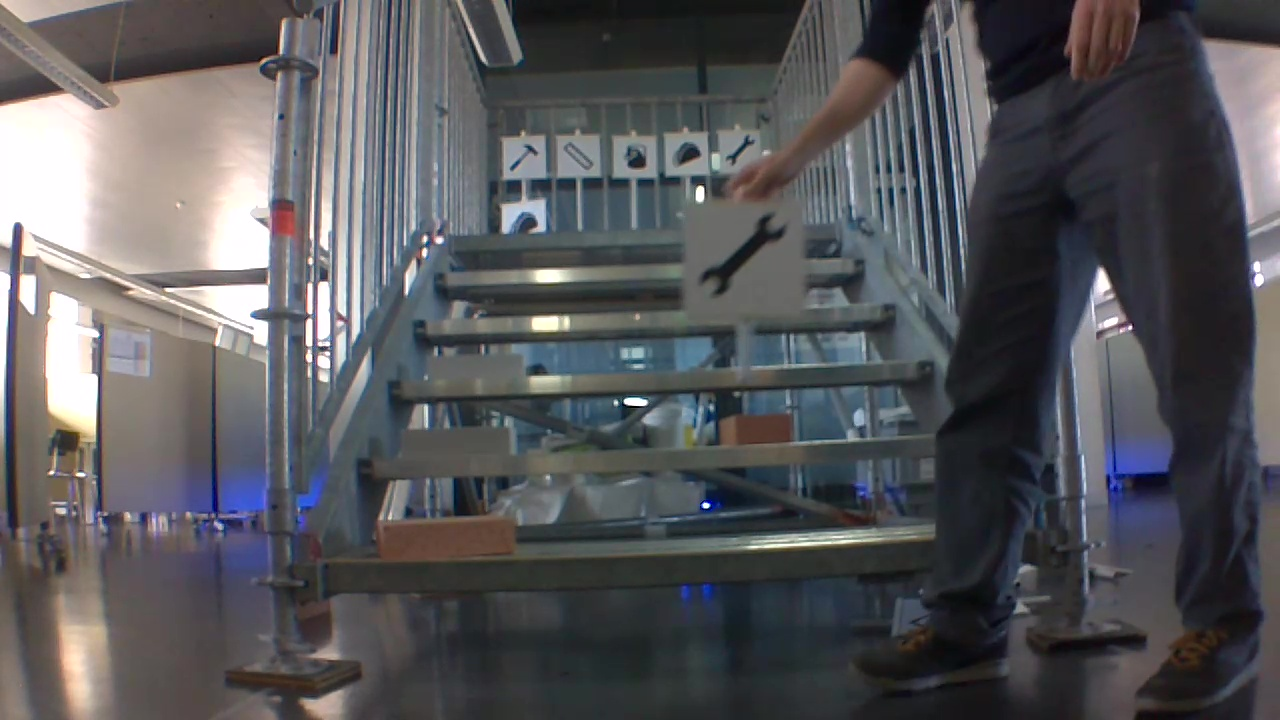brick: (378, 517, 512, 561), (403, 424, 514, 461), (427, 354, 523, 381), (721, 414, 792, 444)
bucket: (619, 141, 652, 172)
edge: (355, 432, 935, 474), (386, 359, 940, 395)
hammer: (502, 142, 538, 174)
ruler: (559, 139, 595, 172)
taco: (504, 203, 538, 232), (671, 138, 700, 166)
wrench: (698, 209, 792, 299), (721, 131, 757, 168)
